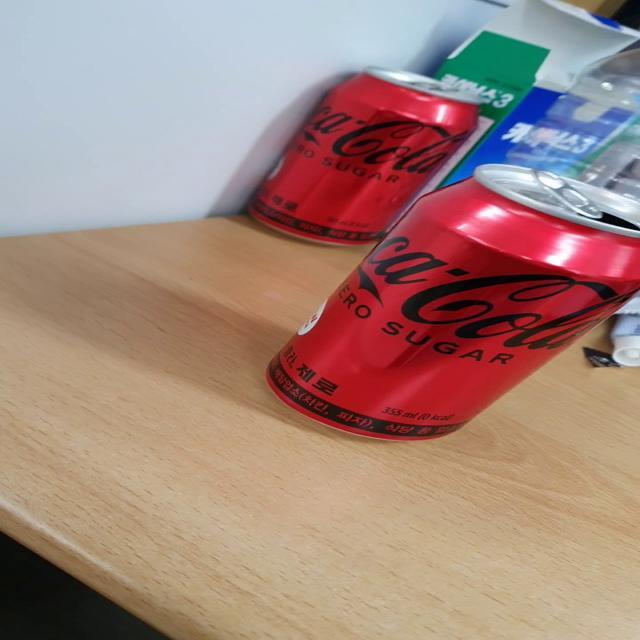coca-cola: (248, 157, 640, 461), (230, 55, 482, 269)
